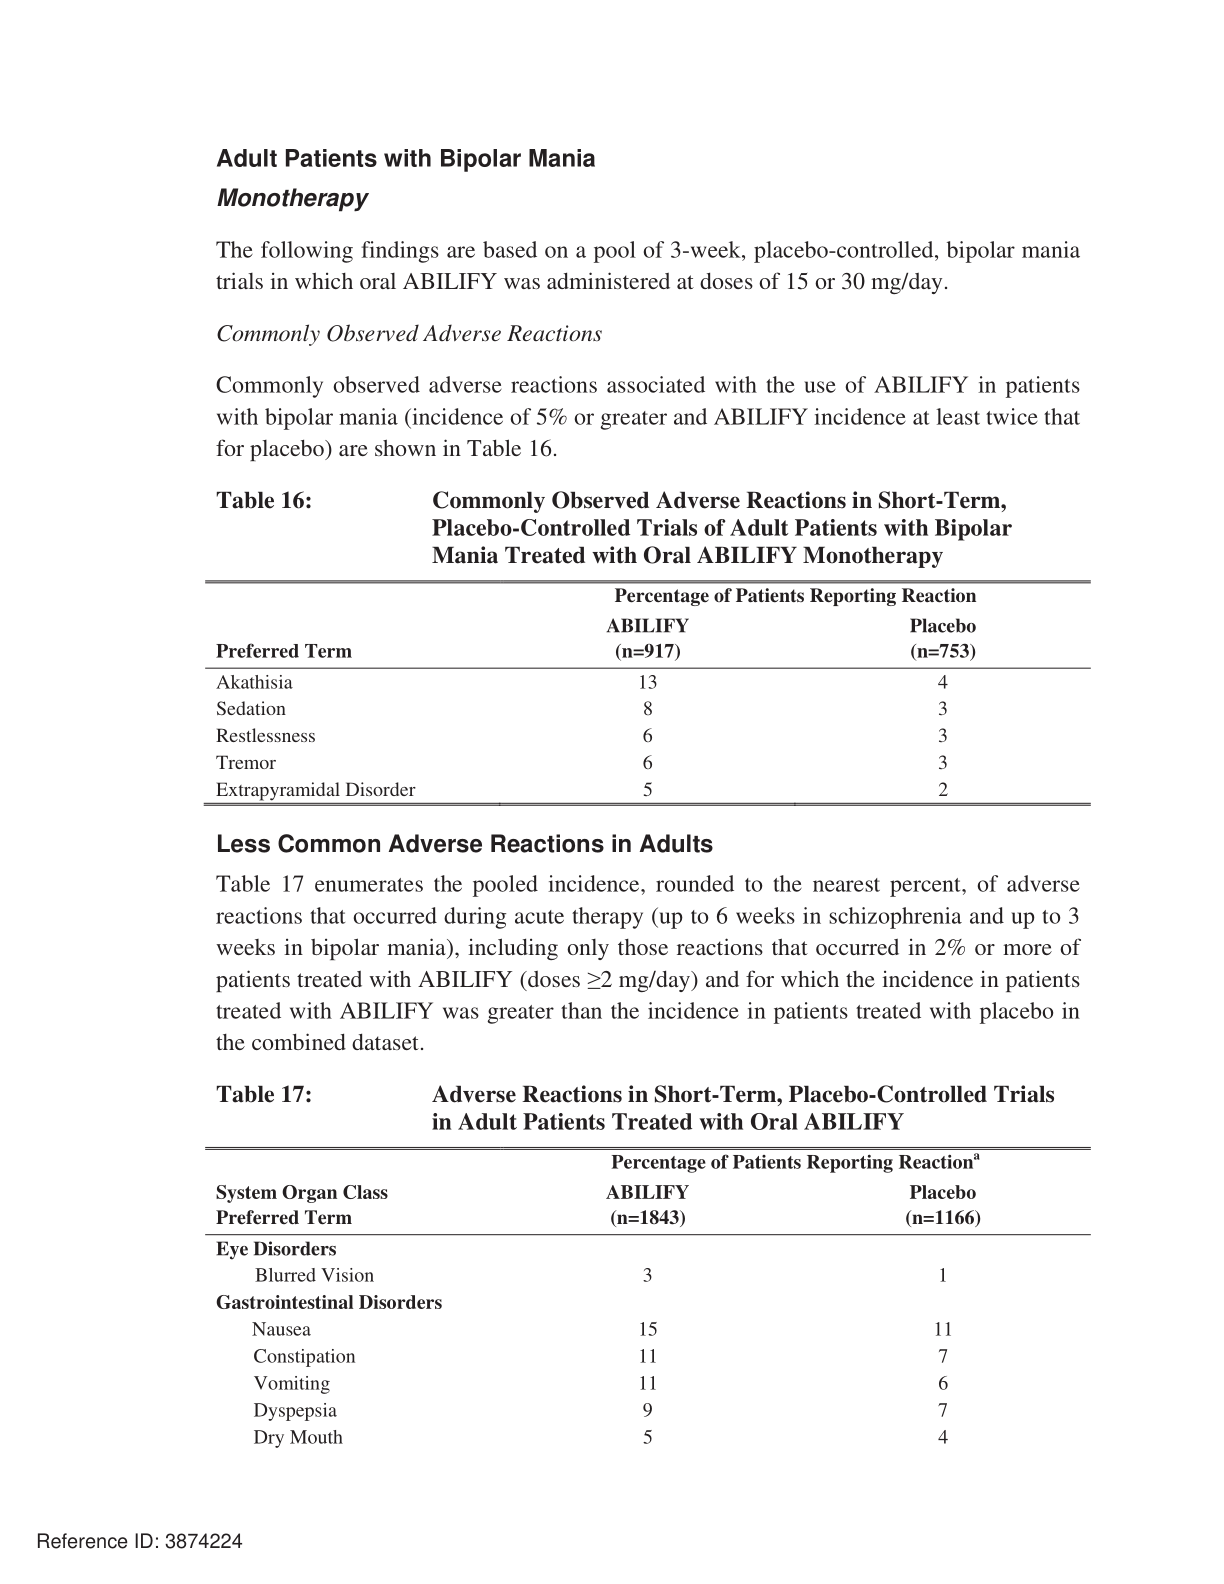partial_lined_merged_cells: (204, 1146, 1090, 1454), (202, 579, 1092, 807)
